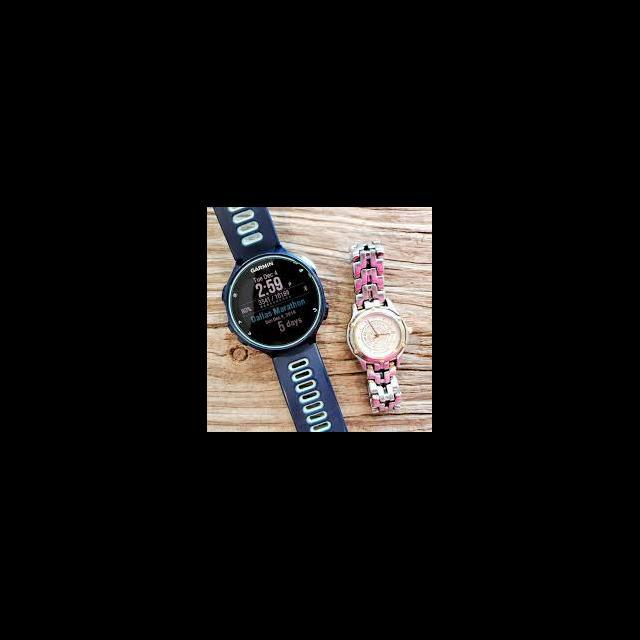watch: (217, 182, 343, 428), (355, 220, 400, 397)
